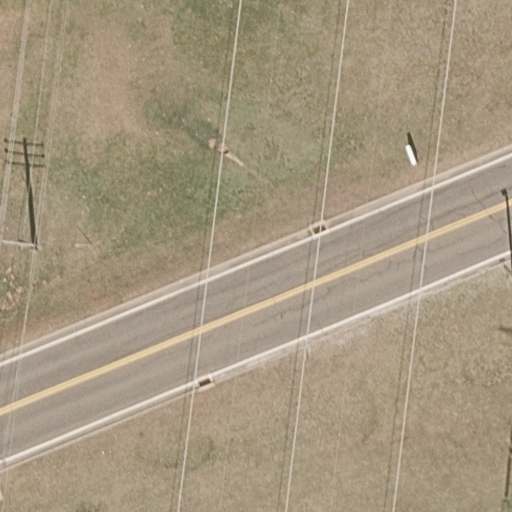DT: (1, 237, 43, 252)
